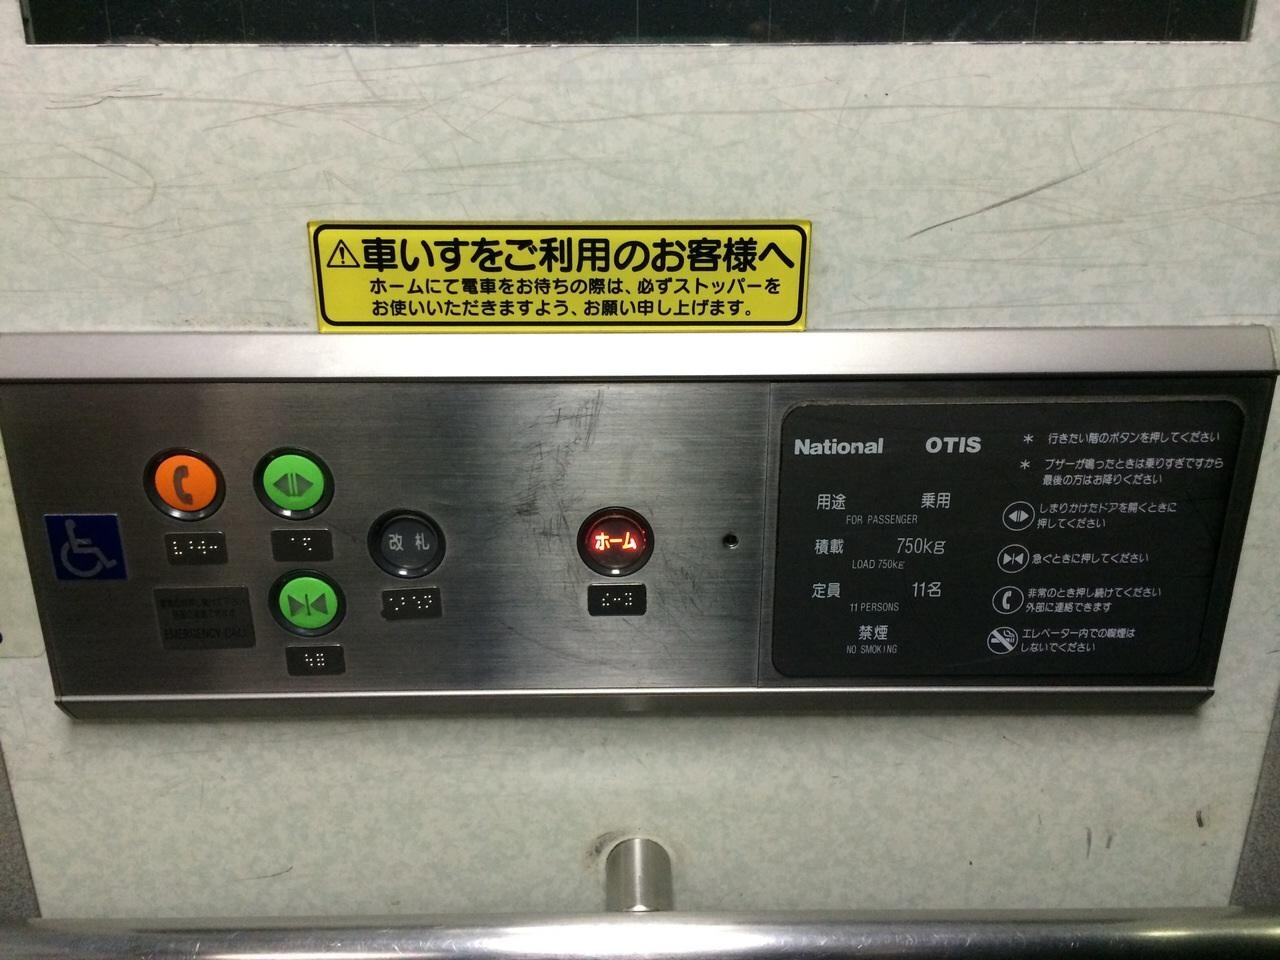CH: (41, 507, 130, 583)
call: (141, 448, 228, 522)
close: (266, 566, 347, 641)
open: (251, 446, 336, 522)
text: (574, 502, 660, 578), (366, 507, 449, 581)
